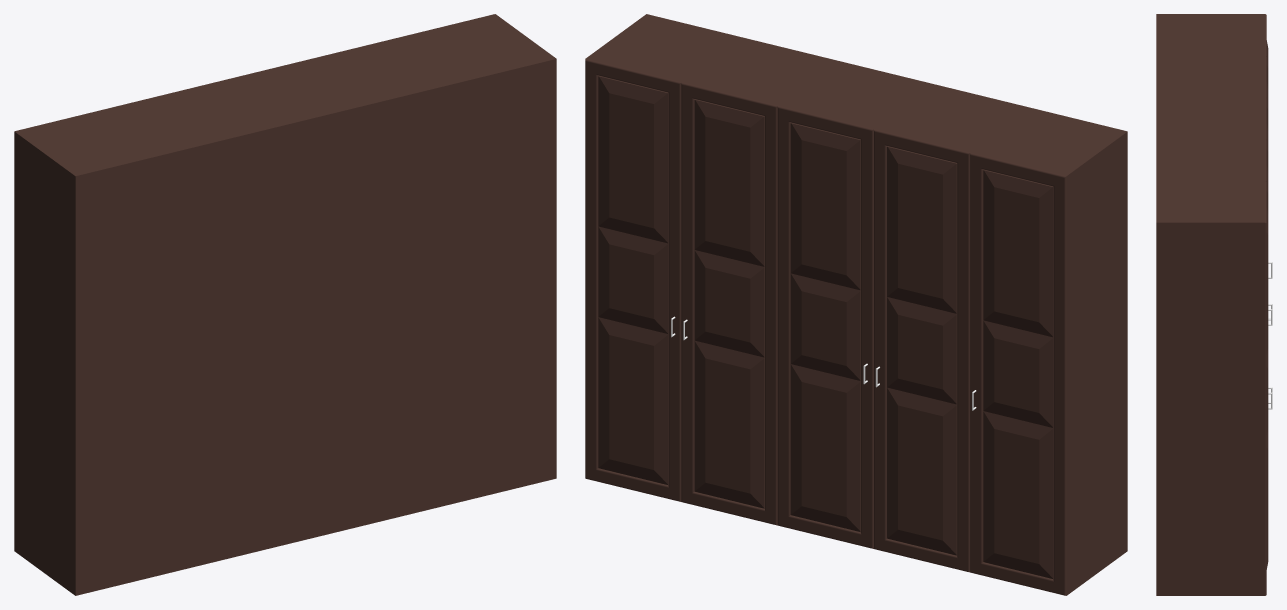
The picture shows the model from 3 angles, left to right: view 1: azimuth 30°, elevation 25°; view 2: azimuth 150°, elevation 25°; view 3: azimuth 270°, elevation 25°; orthographic projection. The views are drawn at different scales.
Parts seen in each view (by area): view 1: mesh1_mesh1-geometry, mesh5_mesh5-geometry; view 2: mesh5_mesh5-geometry, mesh3_mesh3-geometry, mesh1_mesh1-geometry; view 3: mesh1_mesh1-geometry, mesh3_mesh3-geometry, mesh5_mesh5-geometry.
Boxes of the visible parts, bbox=[...] form: mesh1_mesh1-geometry: bbox=[15, 15, 556, 595]; mesh5_mesh5-geometry: bbox=[14, 37, 399, 551]; mesh5_mesh5-geometry: bbox=[681, 81, 1067, 595]; mesh3_mesh3-geometry: bbox=[585, 58, 874, 548]; mesh1_mesh1-geometry: bbox=[587, 14, 1127, 594]; mesh1_mesh1-geometry: bbox=[1156, 14, 1263, 595]; mesh3_mesh3-geometry: bbox=[1263, 97, 1268, 595]; mesh5_mesh5-geometry: bbox=[1263, 14, 1268, 429].
Bounding box in the file's own units: 0.756 × 0.63 × 0.1777.
